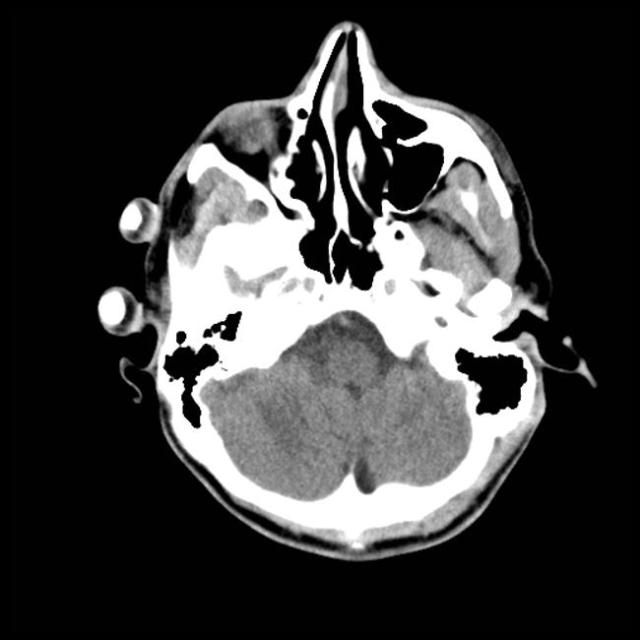lesion: (95, 20, 598, 563)
